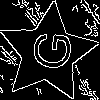G: (23, 28, 73, 73)
